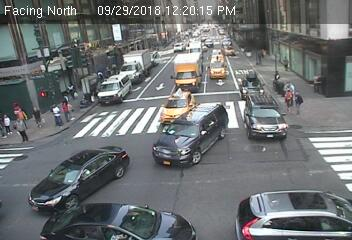car: (27, 144, 127, 208), (38, 200, 198, 240), (233, 190, 352, 240), (153, 98, 230, 172), (239, 89, 289, 141), (116, 48, 154, 85), (162, 87, 196, 125), (176, 51, 203, 91), (96, 71, 131, 100), (238, 69, 265, 98), (210, 59, 232, 79), (224, 43, 237, 59), (172, 40, 187, 53), (201, 35, 215, 48), (212, 46, 224, 58)
